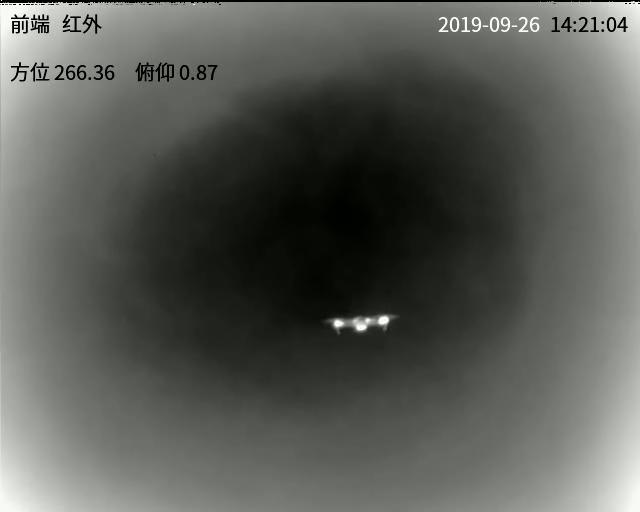uav: (322, 309, 402, 337)
